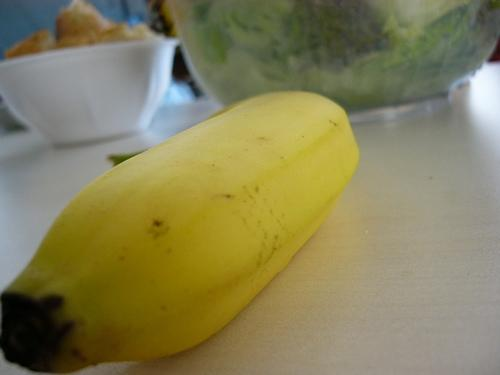banana: (0, 90, 360, 374)
